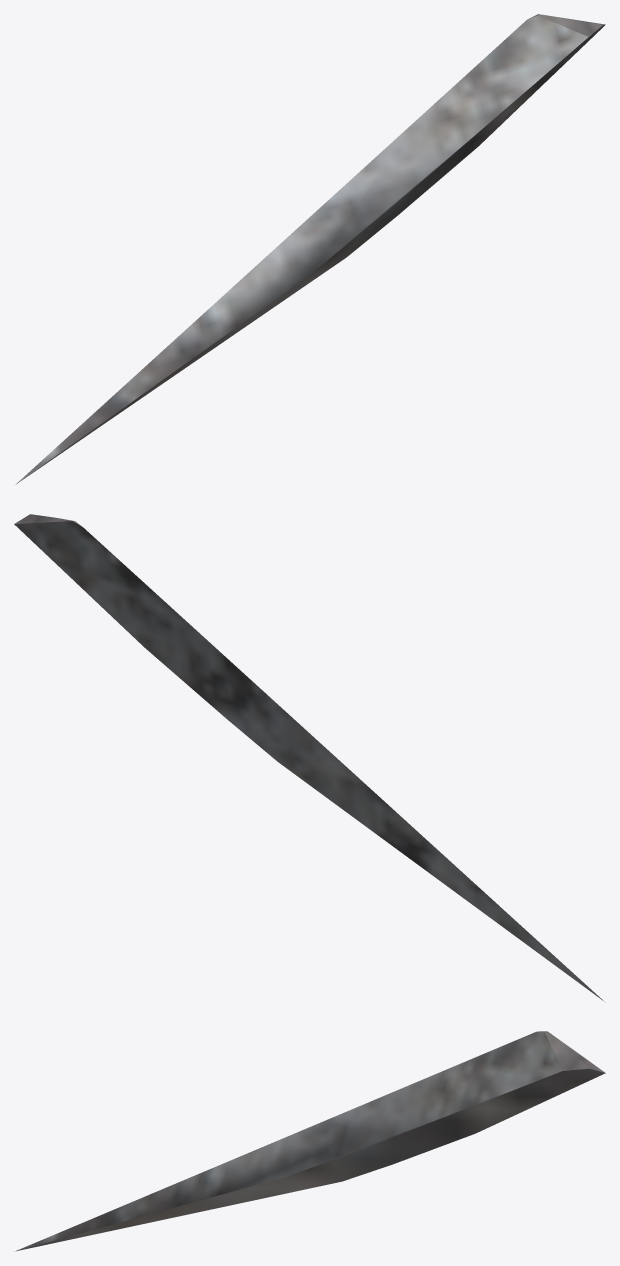
Rendered from Asteroid_Large_001_02_004_03_001.fbx.
3 renders of one model, top to bottom at view 1: azimuth 30°, elevation 25°; view 2: azimuth 150°, elevation 25°; view 3: azimuth 330°, elevation 25°, orthographic.
Parts seen in each view (by area): view 1: Asteroid_Large_001_02_004_03_001; view 2: Asteroid_Large_001_02_004_03_001; view 3: Asteroid_Large_001_02_004_03_001.
Part boxes in pixels (x1,y1,x2,y2): Asteroid_Large_001_02_004_03_001: [15, 14, 605, 484]; Asteroid_Large_001_02_004_03_001: [14, 514, 605, 1002]; Asteroid_Large_001_02_004_03_001: [15, 1031, 605, 1251].
Bounding box in the file's own units: 3.84 × 2.15 × 0.2071.
